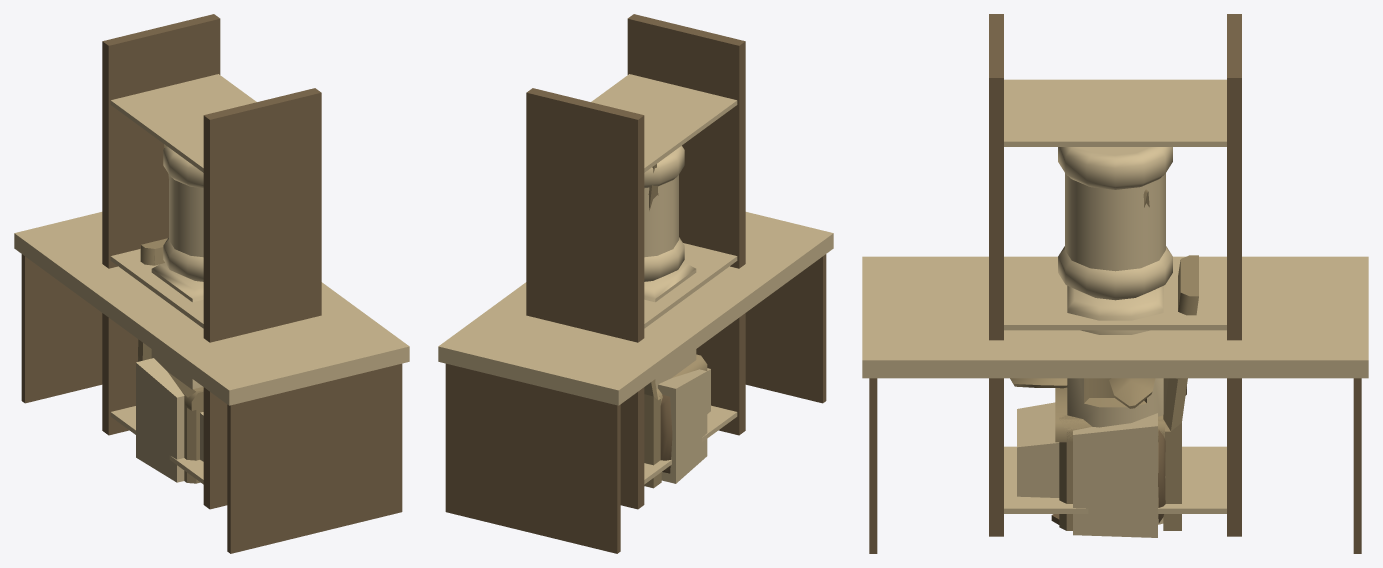
File: Setting_office.fbx
3 renders of one model, left to right at view 1: azimuth 30°, elevation 25°; view 2: azimuth 150°, elevation 25°; view 3: azimuth 270°, elevation 25°, orthographic. The views are drawn at different scales.
Parts seen in each view (by area): view 1: Table.2, Closet, Monitor, Bottle, Chair.1, Cooler, Chair.2; view 2: Table.2, Closet, Monitor, Bottle, Chair.1, Cooler; view 3: Table.2, Closet, Bottle, Monitor, Cooler, Chair.1, Chair.2, Plant.1.
Boxes of the visible parts, x1,y1,x2,y2 form: Table.2: (14,212,409,553); Closet: (102,14,321,509); Monitor: (136,358,203,482); Bottle: (163,146,203,281); Chair.1: (138,247,203,483); Cooler: (151,263,203,389); Chair.2: (140,238,203,410); Table.2: (438,212,833,553); Closet: (526,14,745,509); Monitor: (658,368,710,483); Bottle: (644,145,684,281); Chair.1: (644,380,661,488); Cooler: (644,263,696,388); Table.2: (862,256,1368,553); Closet: (989,14,1241,536); Bottle: (1058,147,1172,300); Monitor: (1017,402,1165,537); Cooler: (1067,286,1163,524); Chair.1: (1059,260,1197,530); Chair.2: (1051,255,1198,524); Plant.1: (1010,378,1155,408).
Bounding box in the file's own units: 105 × 200 × 200.
